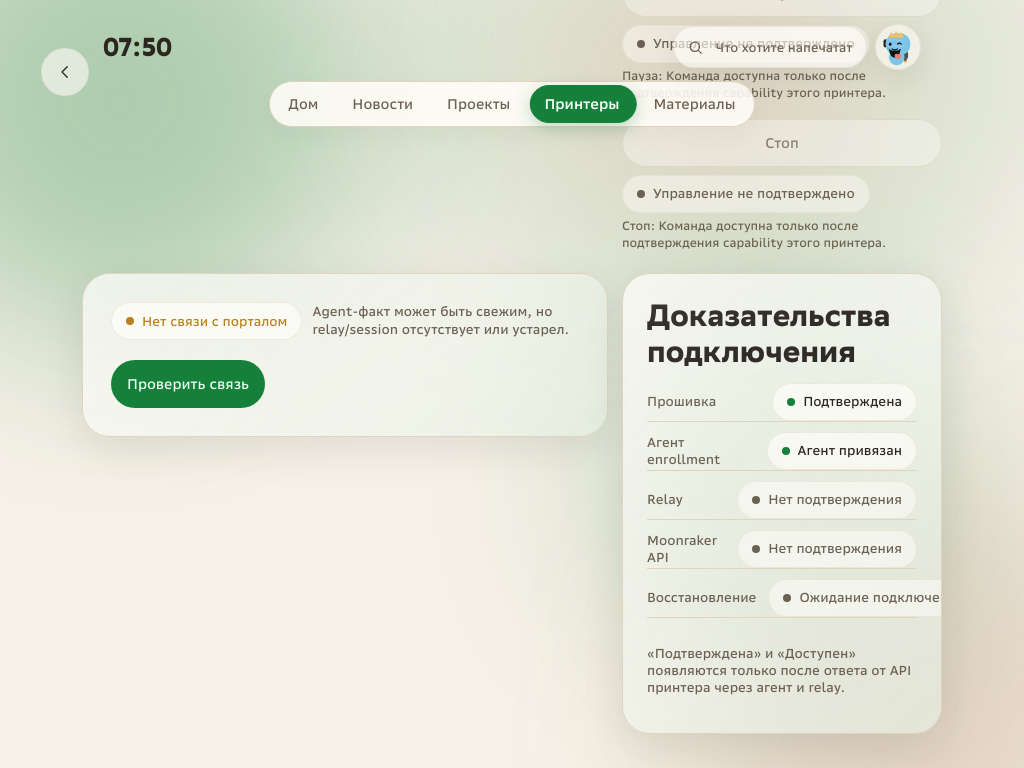
Test: MF-1665: матрица шести состояний подключения › relay-offline: перечитывает нормализованный факт без создания команды
The image size is (1024, 768).
(page scrolled)
Click the button "Проверить связь": (188, 384) [111,360,265,408]
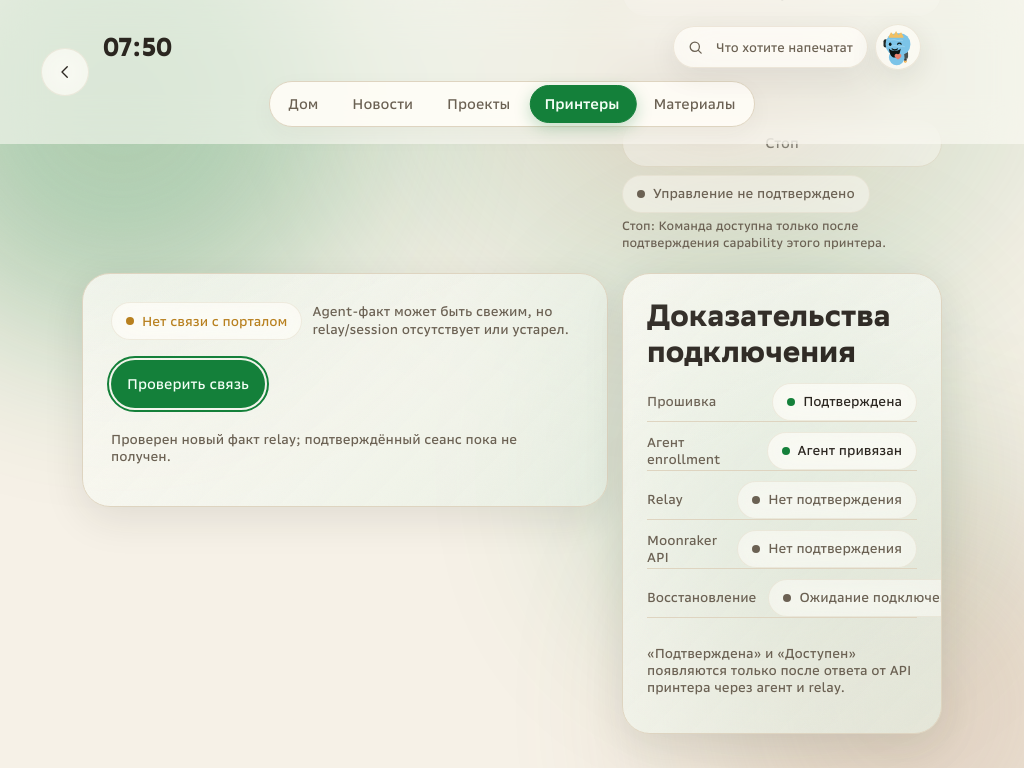
Now the text "Проверен новый факт relay; подтверждённый сеанс пока не получен." is shown, box [111,431,579,465]
